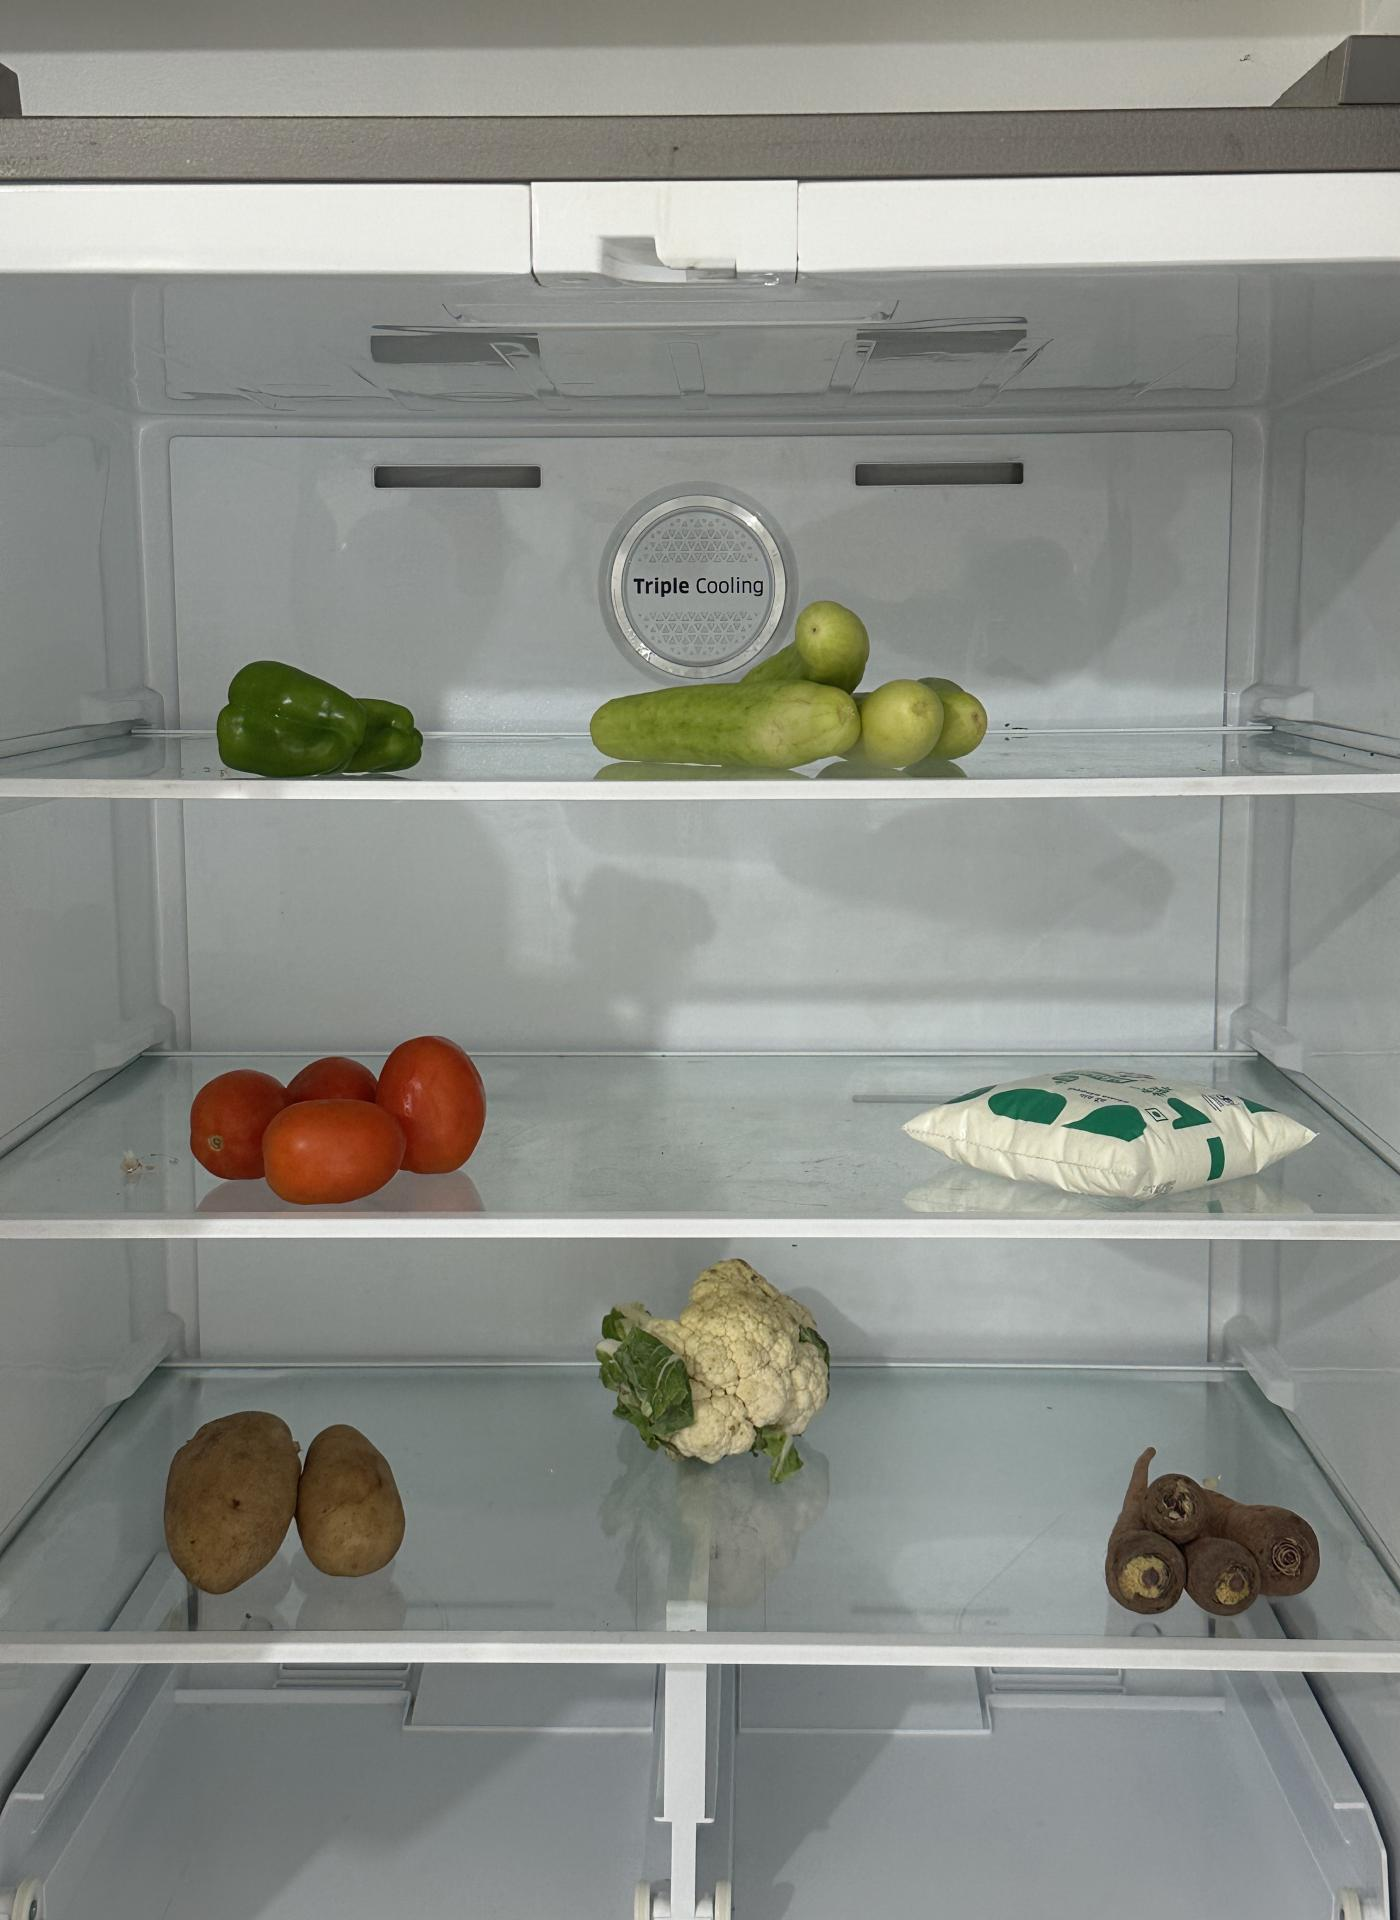capsicum: (207, 654, 426, 774)
carrots: (1108, 1440, 1324, 1616)
cauliflower: (595, 1255, 836, 1465)
cucumber: (586, 598, 991, 769)
milk: (906, 1058, 1312, 1197)
potato: (167, 1407, 406, 1589)
tomato: (180, 1029, 491, 1207)
